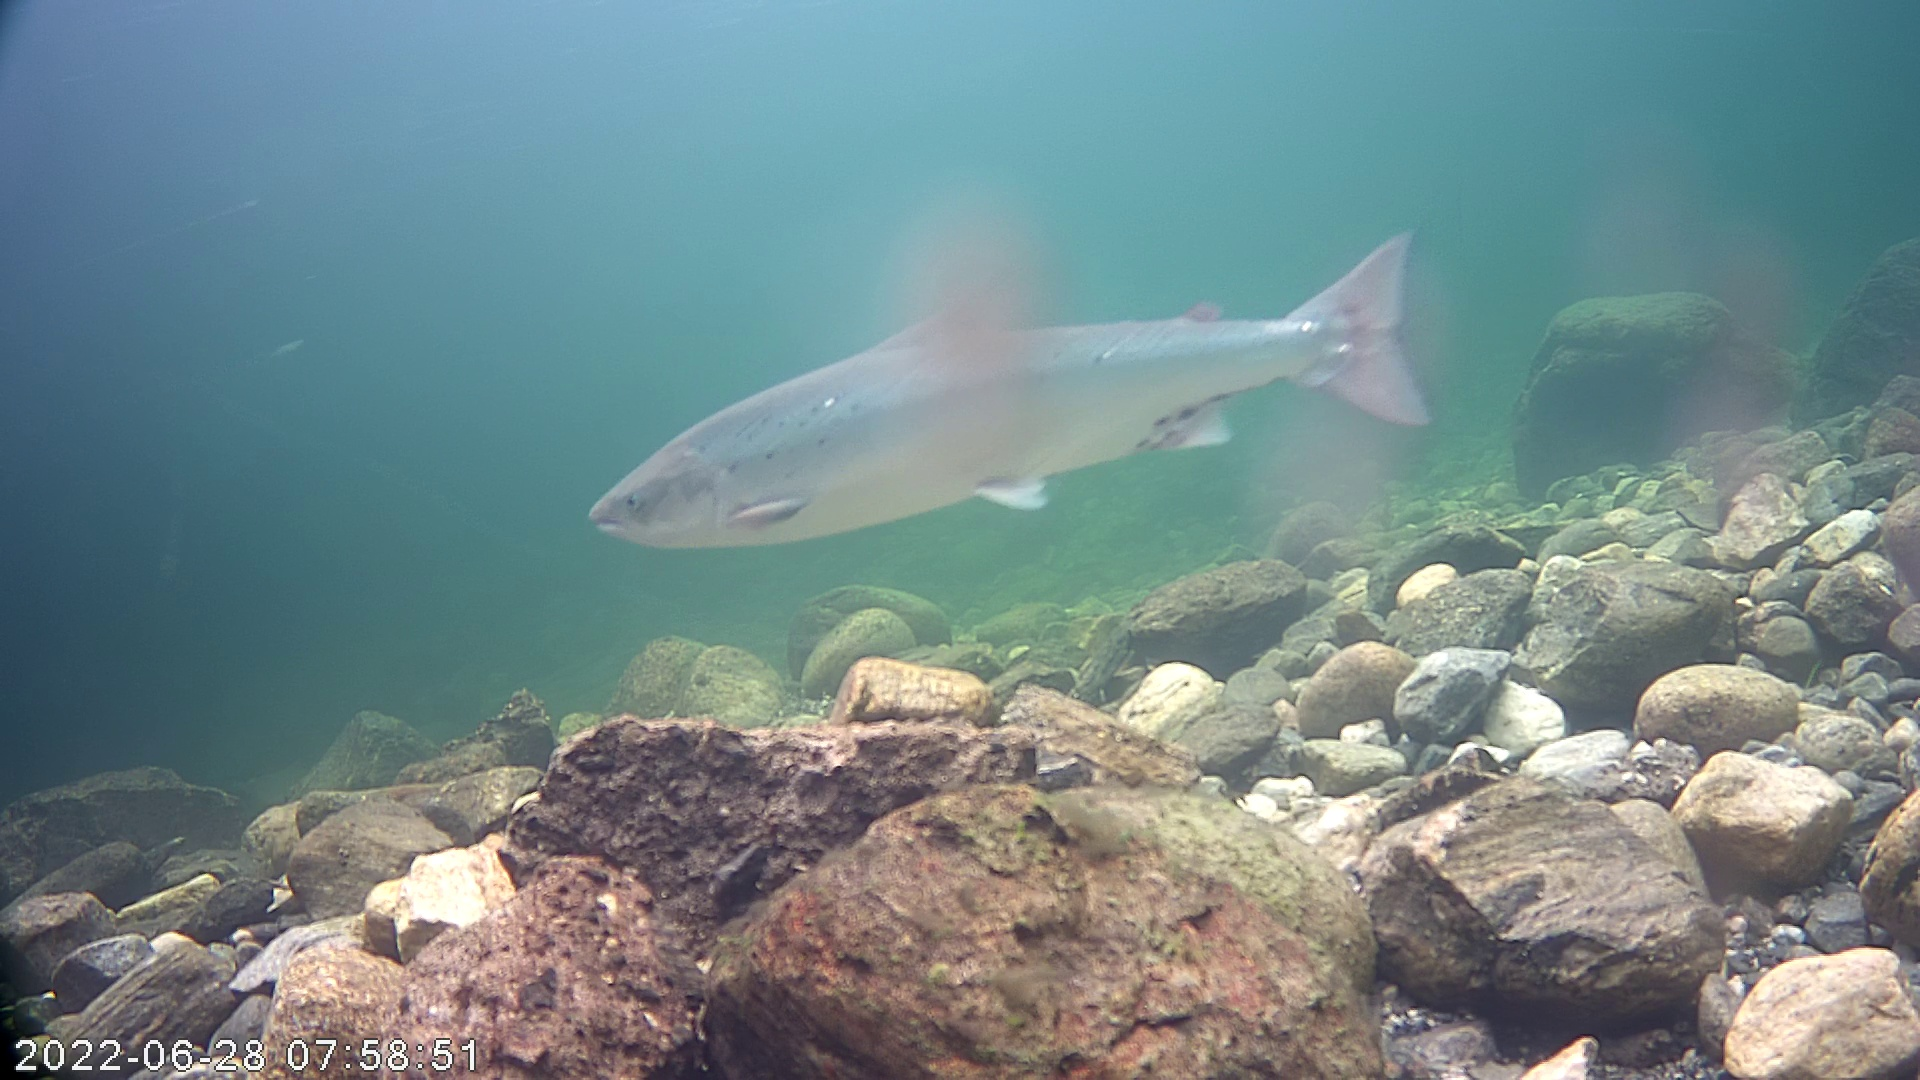salmon: (582, 141, 1461, 601)
